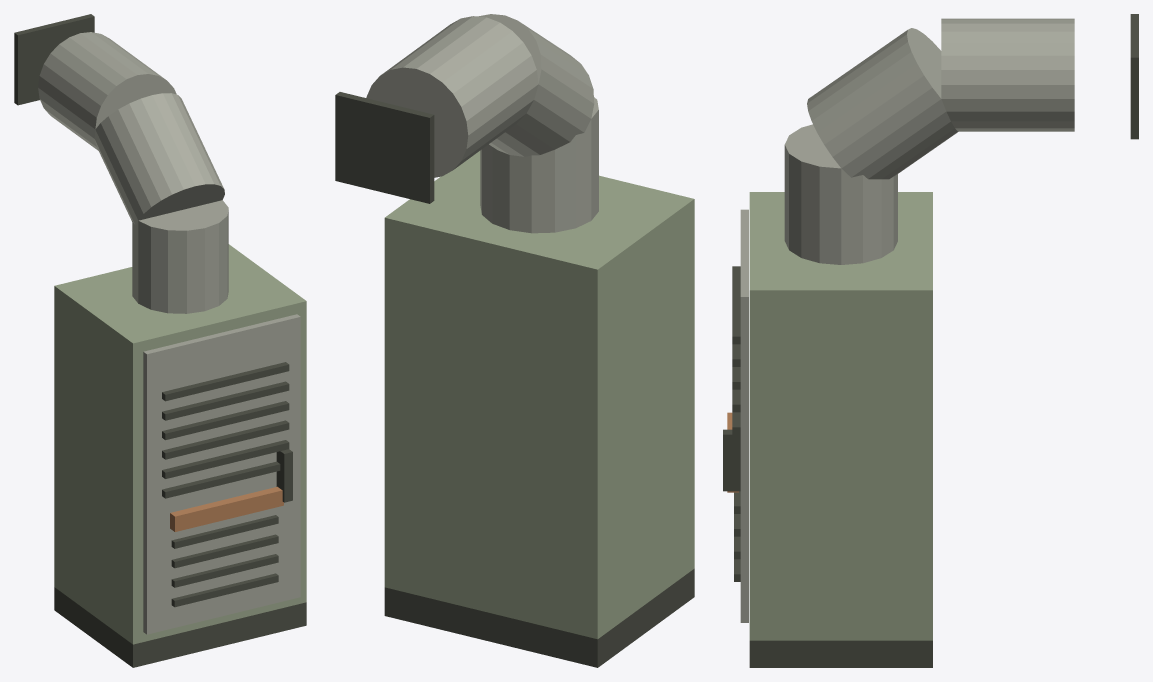
Rendered from reclamation-yard-workshop-air-filtration-unit__236.glb.
The picture shows the model from 3 angles, left to right: view 1: azimuth 30°, elevation 25°; view 2: azimuth 150°, elevation 25°; view 3: azimuth 270°, elevation 25°; orthographic projection. The views are drawn at different scales.
Parts seen in each view (by area): view 1: metal, shell, dark, accent; view 2: shell, metal, dark; view 3: shell, metal, dark.
Part boxes in pixels (x1,y1,x2,y2): metal: (38,32,300,634); shell: (54,244,306,644); dark: (14,14,306,667); accent: (170,486,283,531); shell: (384,151,694,639); metal: (366,14,598,233); dark: (335,92,694,667); shell: (749,192,932,640); metal: (740,18,1074,622); dark: (723,14,1138,667).
Bounding box in the file's own units: 0.7 × 1.97 × 1.25.
